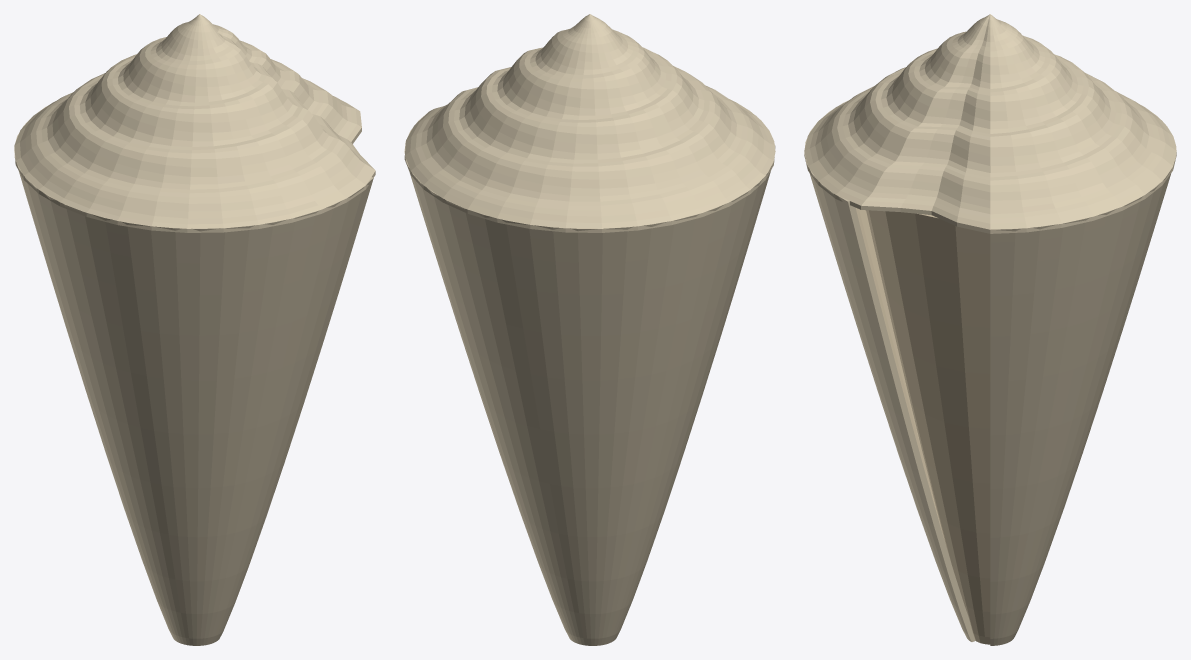
3 renders of one model, left to right at view 1: azimuth 30°, elevation 25°; view 2: azimuth 150°, elevation 25°; view 3: azimuth 270°, elevation 25°, orthographic.
Parts seen in each view (by area): view 1: body-whorl-with-open-aperture, short-dextral-spiral-spire; view 2: body-whorl-with-open-aperture, short-dextral-spiral-spire; view 3: body-whorl-with-open-aperture, short-dextral-spiral-spire, recessed-columellar-inner-wall.
Boxes of the visible parts, <box> form: body-whorl-with-open-aperture: <box>14,101,373,645</box>; short-dextral-spiral-spire: <box>14,14,375,232</box>; body-whorl-with-open-aperture: <box>404,99,775,645</box>; short-dextral-spiral-spire: <box>404,14,775,232</box>; body-whorl-with-open-aperture: <box>804,100,1176,645</box>; short-dextral-spiral-spire: <box>804,14,1176,233</box>; recessed-columellar-inner-wall: <box>866,210,990,644</box>.
Bounding box in the file's own units: 0.013 × 0.024 × 0.013.
